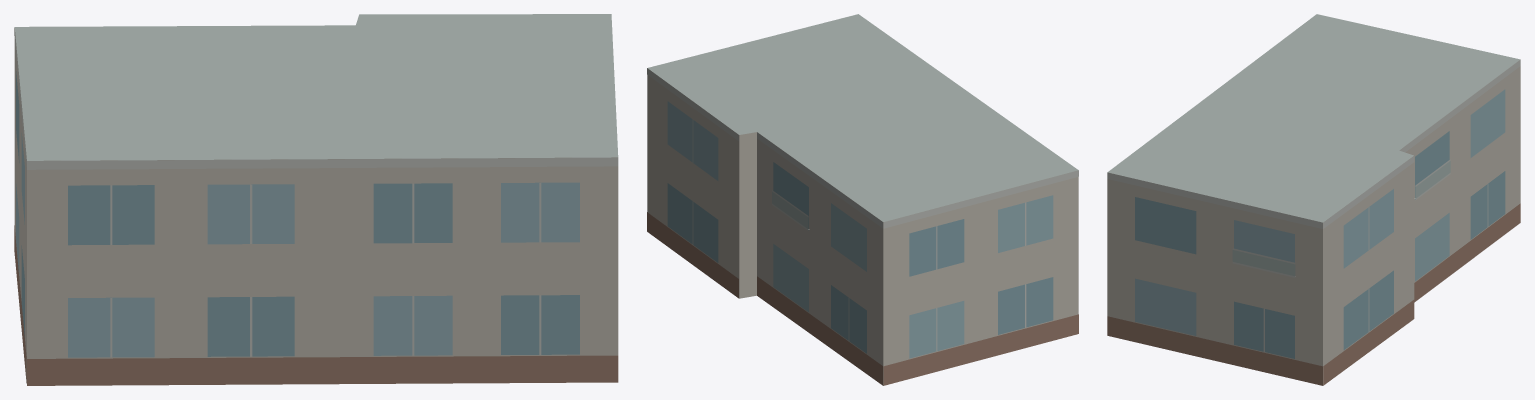
The model's file is survey-upis-32487072.glb.
3 renders of one model, left to right at view 1: azimuth 30°, elevation 25°; view 2: azimuth 150°, elevation 25°; view 3: azimuth 270°, elevation 25°, orthographic. The views are drawn at different scales.
Visible parts, largest first — view 1: survey-upis-32487072.tmp; view 2: survey-upis-32487072.tmp; view 3: survey-upis-32487072.tmp.
Boxes of the visible parts, <box> form: survey-upis-32487072.tmp: <box>14,14,618,385</box>; survey-upis-32487072.tmp: <box>647,14,1078,385</box>; survey-upis-32487072.tmp: <box>1107,14,1520,385</box>.
Bounding box in the file's own units: 16.72 × 6.1 × 14.
